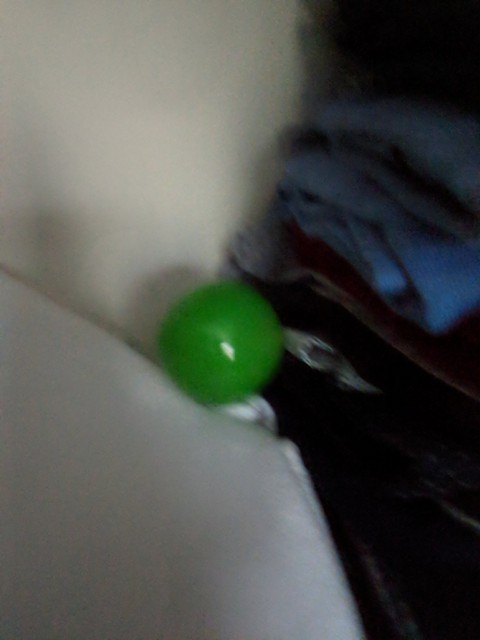ball: (164, 282, 285, 402)
